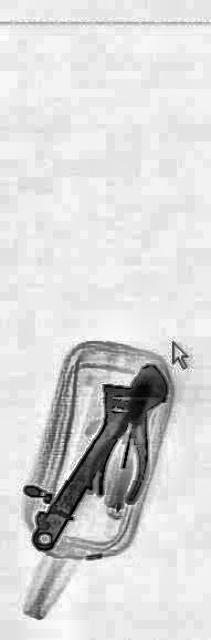Wrench: (24, 310, 168, 580)
